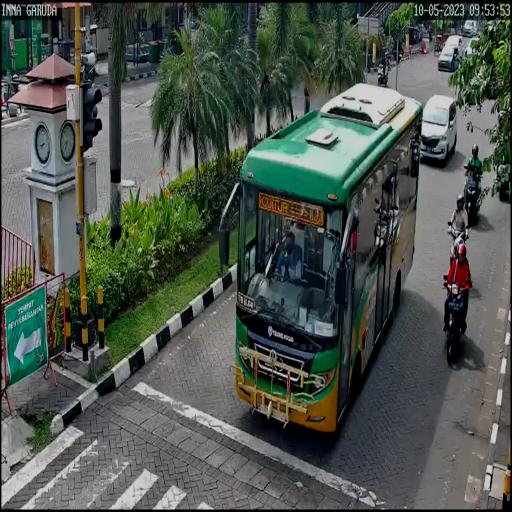mobil: (220, 76, 426, 435), (418, 91, 460, 170)
motor: (440, 272, 474, 369), (464, 160, 482, 227)
